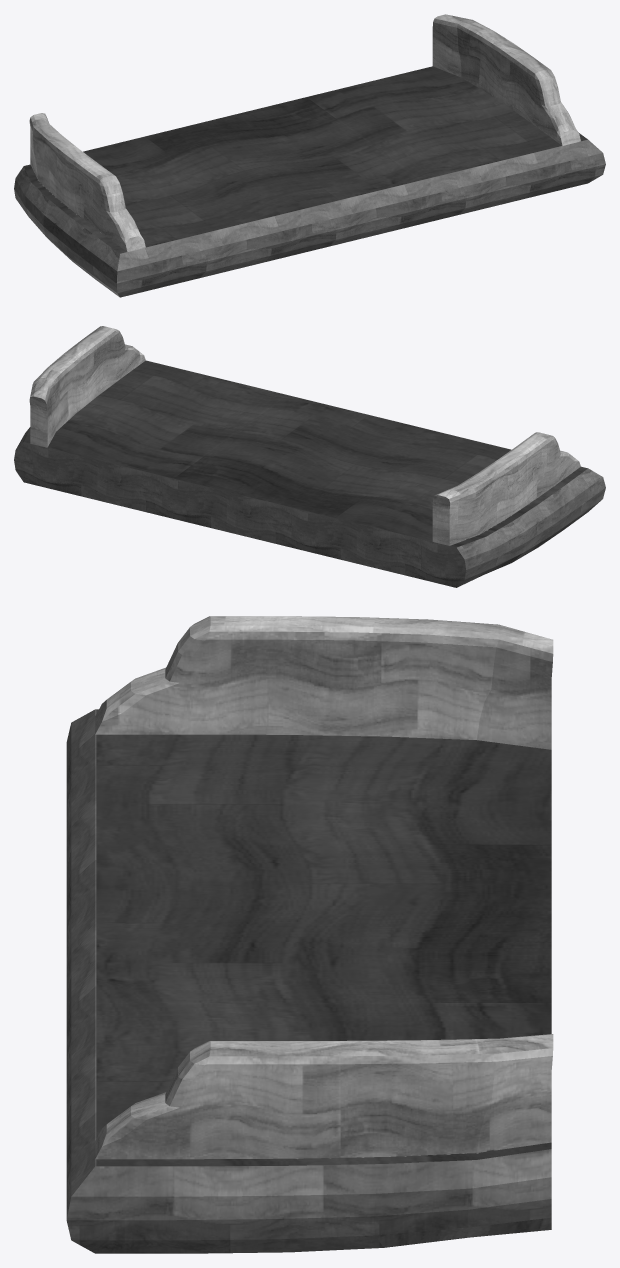
The model's file is Shelf2.fbx.
3 views of the same model, one above another, from view 1: azimuth 30°, elevation 25°; view 2: azimuth 150°, elevation 25°; view 3: azimuth 270°, elevation 25° (orthographic). The views are drawn at different scales.
Visible parts, largest first — view 1: Shelf2Baked; view 2: Shelf2Baked; view 3: Shelf2Baked.
Part boxes in pixels (x1,y1,x2,y2): Shelf2Baked: [14, 14, 605, 297]; Shelf2Baked: [14, 326, 605, 587]; Shelf2Baked: [66, 616, 553, 1253].
Size of the model in its own units: 372 by 69.62 by 160.
